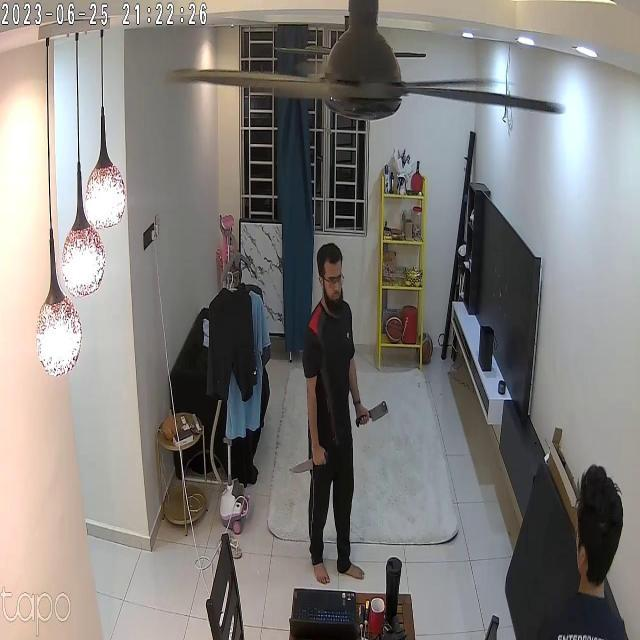Knife: (354, 397, 399, 429), (286, 449, 328, 483)
